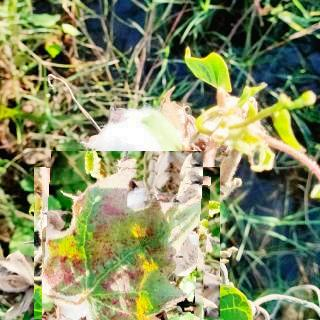curl: (42, 158, 211, 320)
